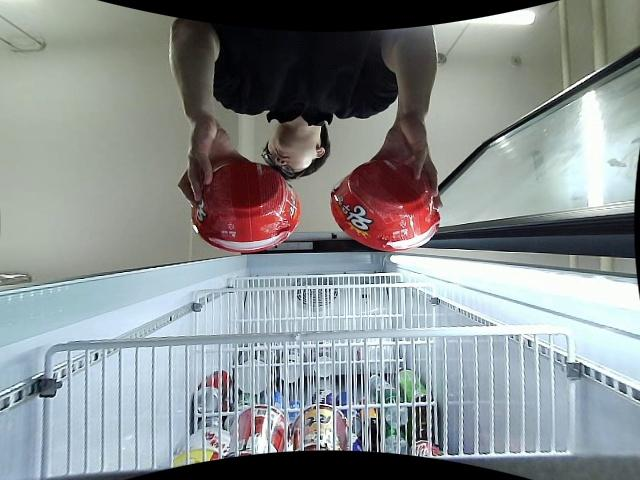00_hand: (178, 119, 255, 209), (368, 121, 445, 209)
10_wangTtukkeong: (191, 161, 301, 253), (331, 160, 441, 249)
